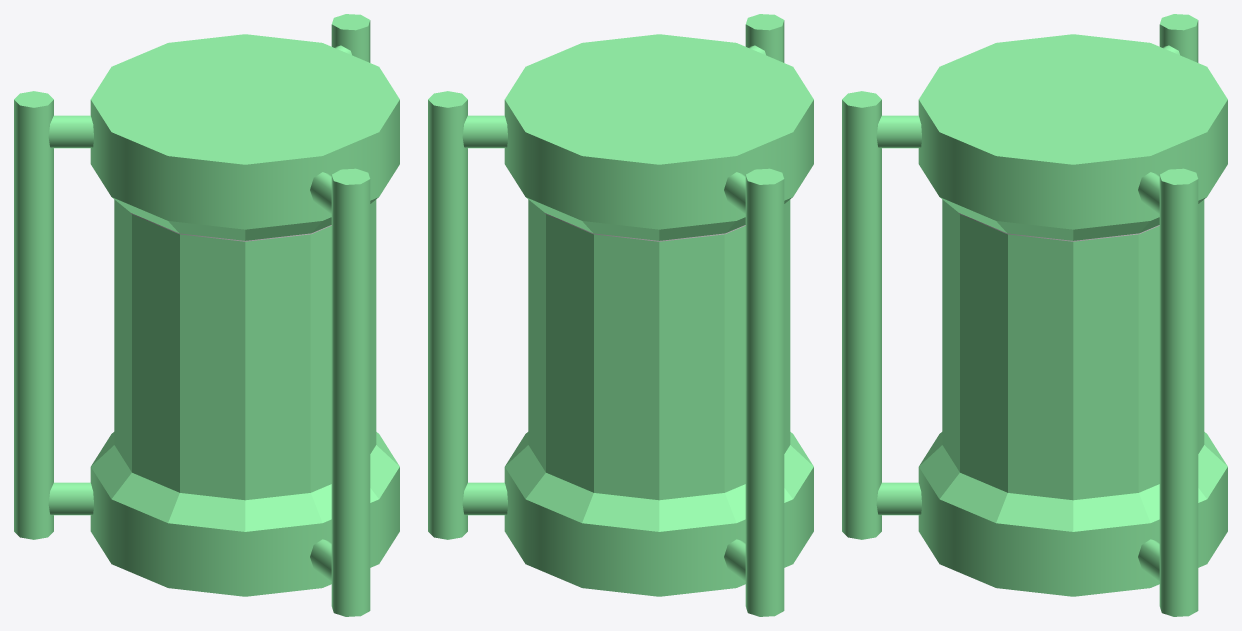
The model's file is faro.fbx.
3 views of the same model, side by side, from view 1: azimuth 30°, elevation 25°; view 2: azimuth 150°, elevation 25°; view 3: azimuth 270°, elevation 25° (orthographic).
Visible parts, largest first — view 1: faro, cristal; view 2: faro, cristal; view 3: faro, cristal.
Boxes of the visible parts, x1,y1,x2,y2 form: faro: (14, 14, 399, 616); cristal: (114, 199, 376, 500); faro: (428, 14, 813, 616); cristal: (528, 199, 790, 500); faro: (842, 14, 1227, 616); cristal: (942, 199, 1204, 500).
Size of the model in its own units: 12.5 by 14.73 by 11.92.
